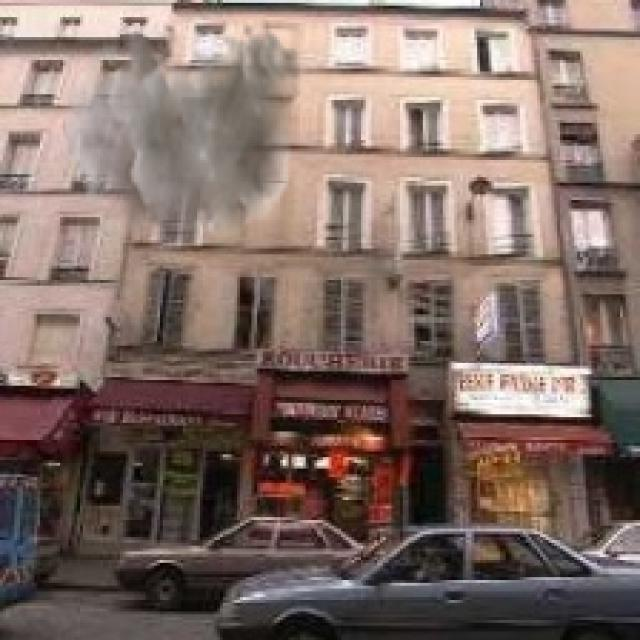Smoke: (63, 23, 303, 266)
